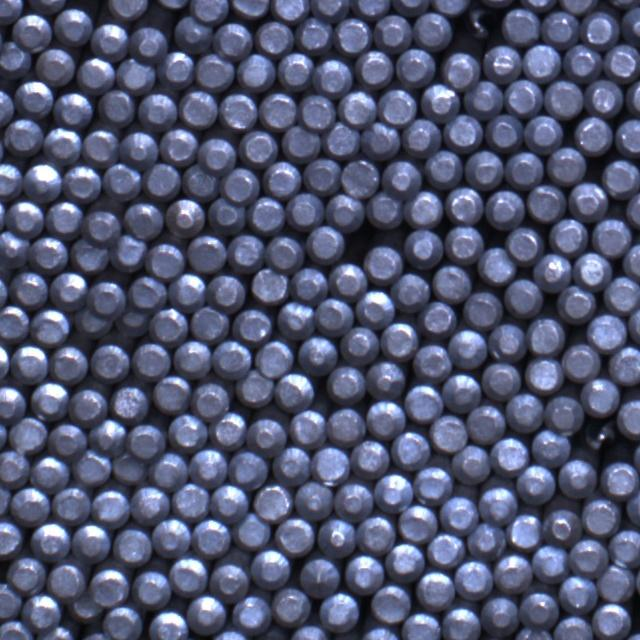tool: (251, 546, 292, 588), (299, 556, 340, 598), (568, 180, 609, 222), (344, 552, 384, 594), (188, 593, 228, 634), (587, 311, 628, 351), (88, 567, 129, 607), (373, 471, 413, 512), (312, 57, 353, 97), (382, 158, 423, 198), (169, 554, 208, 596), (168, 412, 208, 452), (442, 372, 482, 412), (333, 480, 373, 520), (484, 188, 524, 228), (489, 436, 529, 476), (152, 516, 192, 556), (557, 458, 597, 498), (187, 446, 227, 486), (413, 465, 453, 505), (544, 395, 584, 435), (120, 130, 160, 170), (230, 594, 270, 634), (31, 520, 71, 560), (318, 591, 358, 631), (354, 289, 394, 329), (148, 450, 188, 490), (397, 504, 437, 544), (276, 371, 316, 411), (384, 542, 424, 582), (504, 277, 544, 317), (362, 245, 402, 285), (88, 342, 129, 381), (187, 234, 228, 273), (465, 149, 504, 190), (22, 160, 61, 201), (494, 551, 533, 592), (480, 595, 518, 637), (523, 113, 563, 152), (128, 486, 168, 525), (579, 10, 618, 50), (219, 92, 259, 131), (10, 342, 49, 382), (467, 404, 506, 444), (212, 339, 252, 378), (272, 587, 311, 627), (164, 198, 204, 237), (338, 326, 378, 365), (293, 479, 333, 518), (206, 271, 245, 311), (366, 399, 406, 438), (252, 482, 292, 521), (515, 464, 554, 504), (545, 79, 584, 119), (328, 406, 367, 446), (246, 416, 286, 455), (177, 89, 217, 128), (152, 374, 191, 414), (402, 119, 442, 158), (593, 219, 633, 258), (312, 448, 352, 487), (166, 270, 205, 310), (425, 150, 464, 190), (111, 384, 150, 424), (569, 537, 609, 576), (192, 379, 232, 418), (417, 570, 456, 610), (350, 439, 390, 478), (50, 270, 89, 310), (403, 228, 442, 268), (450, 442, 489, 482), (484, 44, 523, 84), (370, 583, 410, 622), (463, 81, 503, 120), (542, 508, 581, 548), (367, 358, 406, 398), (394, 48, 435, 86), (74, 521, 112, 562), (22, 592, 63, 630), (522, 44, 561, 83), (209, 483, 248, 522), (158, 126, 197, 165), (149, 306, 188, 345), (445, 185, 484, 224), (237, 52, 276, 91), (306, 225, 345, 264), (191, 517, 230, 556), (420, 84, 459, 123), (478, 487, 517, 526), (501, 7, 540, 46), (433, 263, 472, 302), (113, 527, 152, 566), (601, 461, 640, 500), (392, 430, 431, 469), (356, 514, 395, 553), (405, 384, 444, 423), (175, 15, 214, 54), (329, 261, 368, 300), (328, 365, 367, 404), (547, 146, 587, 184), (9, 269, 49, 307), (280, 125, 320, 163), (412, 12, 452, 50), (132, 341, 172, 379), (10, 486, 50, 524), (170, 482, 210, 520), (122, 200, 162, 238), (265, 234, 305, 272), (324, 193, 364, 231), (36, 47, 76, 85), (441, 51, 481, 89), (582, 377, 620, 417), (506, 393, 544, 433), (377, 87, 417, 125), (454, 560, 492, 600), (228, 450, 268, 488), (466, 522, 506, 560), (289, 407, 327, 447), (214, 21, 254, 59), (602, 157, 640, 197), (136, 92, 176, 130), (360, 122, 400, 160), (534, 252, 572, 292), (561, 45, 601, 83), (443, 226, 483, 264), (116, 56, 156, 94), (45, 198, 83, 238), (238, 130, 278, 168), (232, 512, 272, 550), (443, 113, 483, 151), (144, 240, 184, 278), (462, 290, 502, 328), (556, 284, 596, 322), (572, 252, 612, 290), (210, 561, 248, 601), (208, 195, 248, 233), (54, 6, 94, 44), (32, 380, 70, 420), (403, 190, 443, 228), (232, 307, 273, 344), (258, 91, 297, 129), (194, 52, 233, 90), (172, 339, 210, 378), (276, 516, 315, 554), (32, 307, 71, 345), (181, 162, 220, 200), (102, 163, 141, 201), (90, 486, 128, 525), (90, 21, 128, 60), (340, 158, 379, 196), (338, 90, 377, 128), (62, 163, 101, 201), (263, 160, 302, 198), (51, 485, 90, 523), (506, 152, 545, 190), (44, 124, 83, 162), (6, 198, 45, 236), (82, 126, 120, 165), (236, 369, 274, 408), (12, 14, 51, 52), (530, 429, 569, 467), (379, 322, 418, 360), (530, 544, 568, 583), (5, 118, 44, 156), (502, 78, 541, 116), (318, 518, 357, 556), (574, 117, 612, 156), (132, 568, 171, 606), (562, 342, 600, 381), (198, 136, 237, 174), (519, 592, 558, 630), (487, 322, 525, 361), (208, 411, 246, 450), (413, 343, 452, 381), (277, 300, 315, 339), (527, 184, 566, 222), (448, 329, 486, 368), (296, 336, 335, 374), (271, 446, 309, 485), (393, 272, 431, 311), (478, 246, 517, 284), (221, 165, 261, 202), (190, 305, 230, 342), (228, 232, 265, 272), (70, 451, 110, 488), (8, 416, 48, 453), (86, 418, 126, 455), (156, 50, 194, 88), (429, 414, 467, 452), (294, 17, 332, 55), (542, 11, 580, 49), (302, 157, 340, 195), (69, 387, 107, 425), (486, 112, 524, 150), (316, 298, 354, 336), (593, 602, 631, 640), (286, 192, 324, 230), (582, 498, 620, 536), (366, 191, 404, 229), (109, 234, 147, 272), (276, 52, 314, 90), (9, 555, 47, 593), (130, 25, 168, 63), (88, 280, 126, 318), (528, 316, 566, 354), (322, 122, 361, 159), (255, 19, 294, 56), (372, 15, 411, 52), (482, 363, 521, 400), (524, 355, 563, 392), (55, 90, 94, 127), (71, 235, 110, 272), (550, 217, 588, 254), (256, 339, 294, 376), (49, 561, 87, 598), (251, 267, 289, 304), (506, 227, 544, 264), (354, 51, 392, 88), (51, 344, 88, 382), (290, 267, 328, 304), (584, 80, 621, 118), (440, 495, 478, 532), (32, 454, 70, 491), (16, 80, 54, 117), (560, 576, 598, 613), (604, 44, 640, 83), (128, 274, 167, 310), (142, 163, 180, 199), (299, 94, 337, 130), (77, 56, 115, 92), (127, 422, 165, 458), (332, 17, 370, 53), (428, 531, 466, 567), (29, 236, 68, 271), (103, 604, 142, 639), (82, 210, 121, 245), (441, 606, 481, 640), (50, 421, 88, 456), (507, 512, 542, 550), (605, 276, 640, 314), (72, 305, 111, 339), (250, 196, 286, 232), (99, 90, 135, 126), (420, 301, 456, 337), (599, 564, 636, 599), (112, 453, 149, 487), (608, 344, 640, 383), (150, 609, 190, 640), (609, 529, 640, 568), (0, 41, 31, 79), (0, 304, 30, 342), (0, 231, 30, 269), (401, 611, 440, 640), (65, 597, 104, 625), (114, 307, 150, 337), (0, 449, 29, 486), (0, 384, 25, 424), (615, 117, 640, 156), (553, 615, 592, 640), (618, 398, 640, 439), (0, 519, 23, 556), (310, 0, 350, 21), (620, 5, 640, 47), (190, 0, 228, 22), (270, 0, 308, 22), (0, 582, 23, 618), (0, 161, 21, 198), (348, 0, 389, 18), (0, 620, 36, 640), (229, 0, 271, 17), (108, 0, 149, 17), (290, 624, 330, 640), (392, 0, 431, 16), (624, 243, 640, 282), (35, 625, 76, 640), (359, 626, 402, 640), (430, 0, 472, 14), (625, 488, 640, 527), (557, 0, 598, 14), (0, 86, 14, 126), (626, 76, 640, 116), (0, 0, 24, 23), (626, 191, 640, 230), (27, 0, 68, 13), (513, 626, 551, 640), (628, 305, 640, 347), (251, 627, 289, 640), (0, 338, 11, 382), (207, 629, 249, 640), (518, 0, 556, 12), (0, 482, 11, 517), (150, 0, 192, 9), (81, 632, 118, 640), (605, 0, 640, 8), (0, 271, 7, 308), (0, 416, 7, 453), (0, 196, 6, 237), (477, 0, 517, 6), (623, 632, 639, 640)
tool_b: (464, 6, 496, 43), (584, 420, 616, 453)
